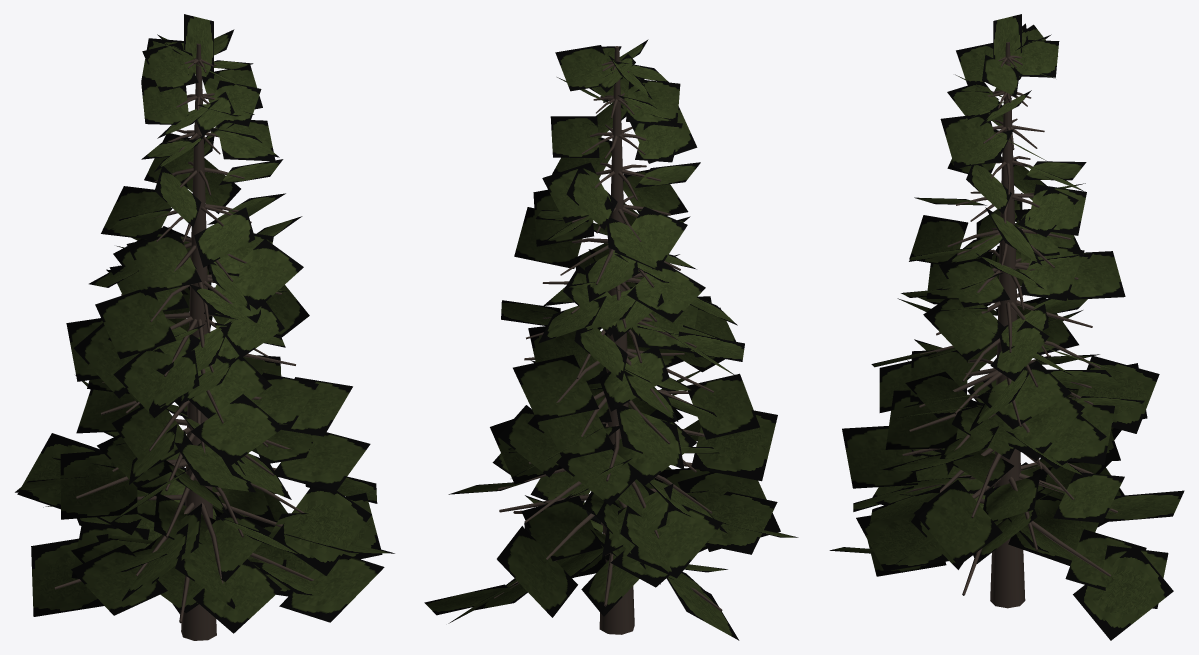
Rendered from pine_2_burnt2.glb.
The picture shows the model from 3 angles, left to right: view 1: azimuth 30°, elevation 25°; view 2: azimuth 150°, elevation 25°; view 3: azimuth 270°, elevation 25°; orthographic projection. The views are drawn at different scales.
Parts seen in each view (by area): view 1: pine_2_burnt2; view 2: pine_2_burnt2; view 3: pine_2_burnt2.
Part boxes in pixels (<box>): pine_2_burnt2: <box>15,14,394,640</box>; pine_2_burnt2: <box>424,39,798,640</box>; pine_2_burnt2: <box>829,14,1184,640</box>.
Bounding box in the file's own units: 5.97 × 11.74 × 6.5.
Materials: 2 (1 with a texture image).
